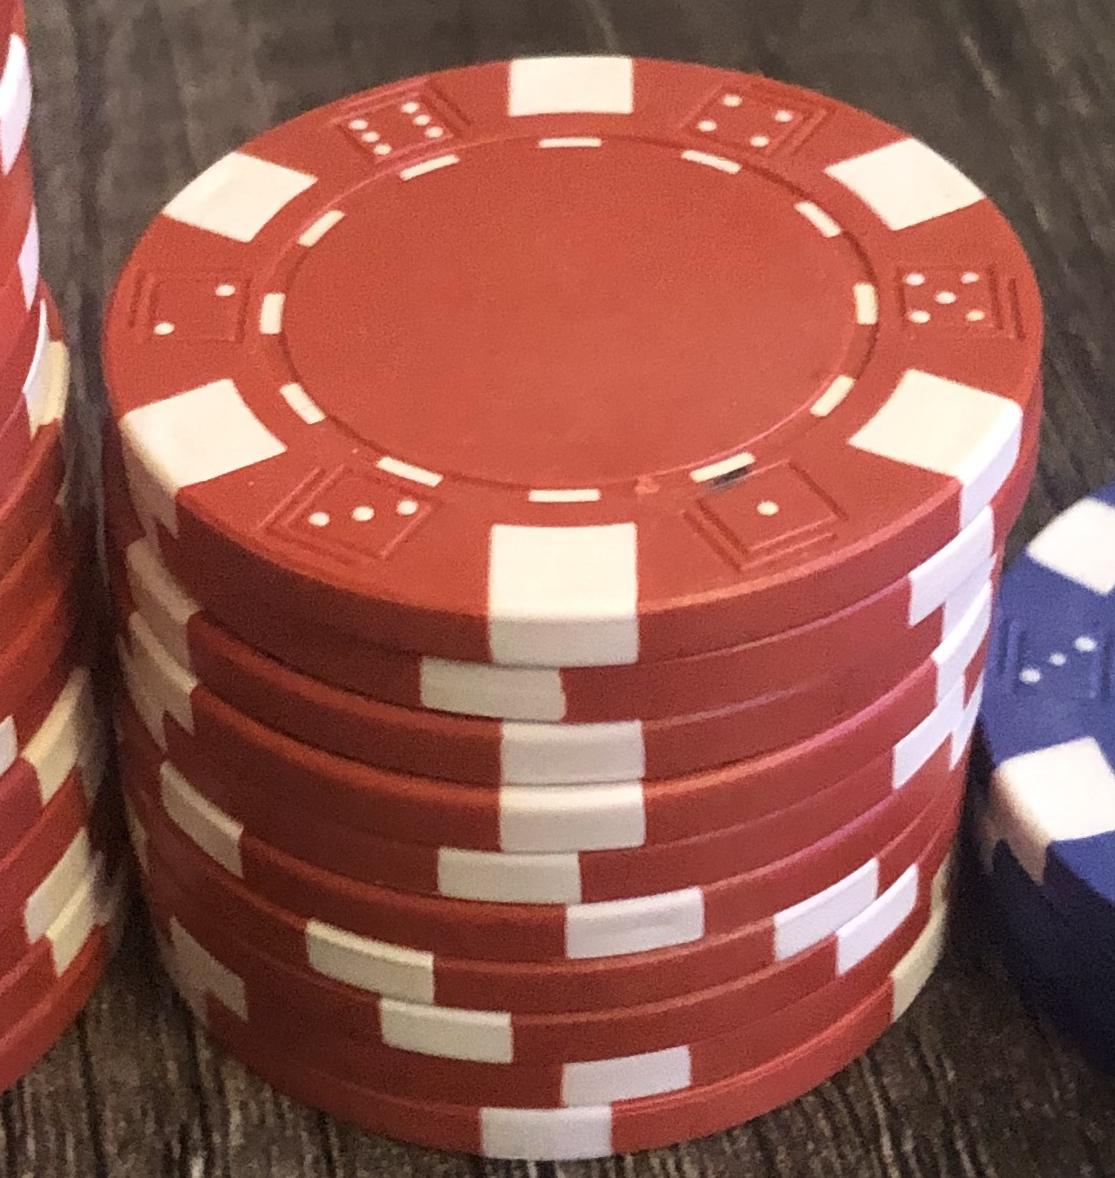Chip: (1, 1, 1115, 1178)
